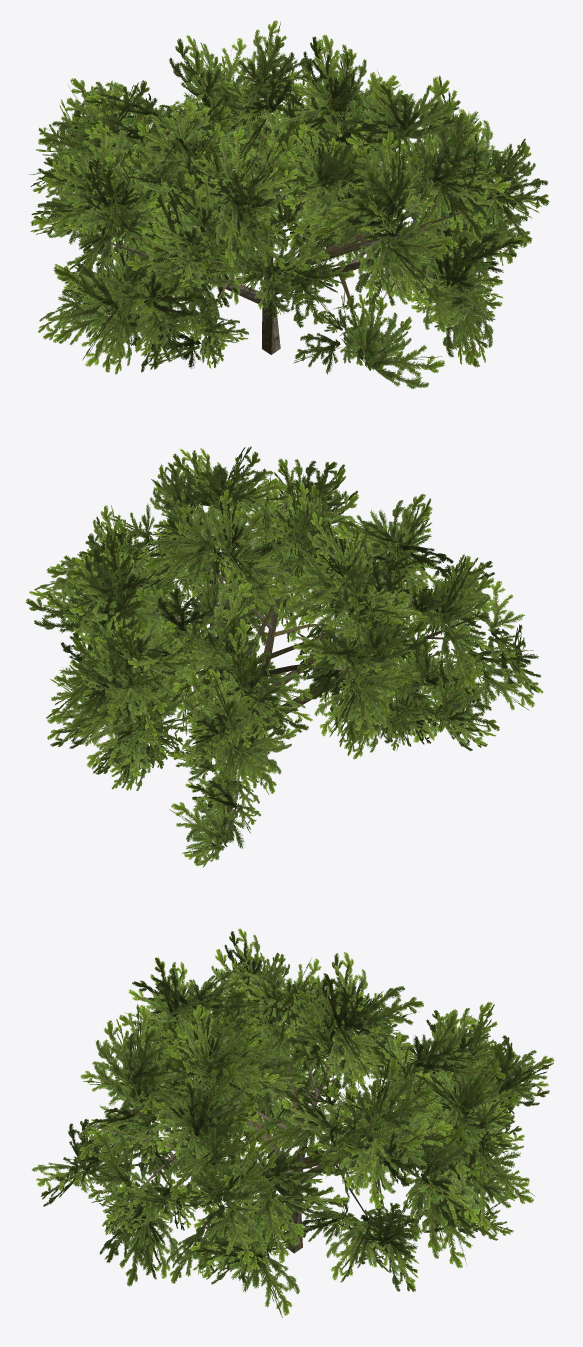
The model's file is bush.glb.
The picture shows the model from 3 angles, top to bottom: view 1: azimuth 30°, elevation 25°; view 2: azimuth 150°, elevation 25°; view 3: azimuth 270°, elevation 25°; orthographic projection. The views are drawn at different scales.
Parts seen in each view (by area): view 1: bush; view 2: bush; view 3: bush.
Boxes of the visible parts, left/top/right/bottom form: bush: left=29, top=20, right=549, bottom=388; bush: left=25, top=446, right=543, bottom=867; bush: left=31, top=928, right=554, bottom=1317.
Bounding box in the file's own units: 3.32 × 2.11 × 3.16.
2 materials, 2 textured.
